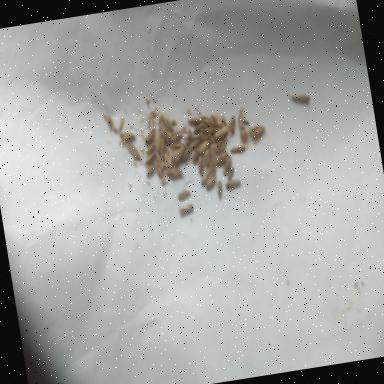pbw: (246, 124, 268, 147), (124, 140, 141, 164), (171, 144, 187, 168), (212, 124, 230, 142), (198, 165, 212, 186), (225, 116, 238, 138), (199, 148, 213, 168), (220, 156, 234, 176), (156, 166, 169, 186), (143, 128, 158, 145), (194, 139, 211, 154), (164, 167, 184, 179), (238, 126, 248, 149), (144, 160, 158, 176), (176, 188, 192, 201), (204, 175, 218, 189), (178, 203, 194, 215), (119, 130, 135, 142), (224, 178, 241, 189), (236, 108, 246, 126), (215, 180, 224, 200), (212, 110, 222, 128), (168, 131, 182, 143), (191, 150, 201, 166), (144, 142, 156, 154), (187, 116, 201, 126), (226, 166, 235, 180), (230, 146, 245, 154)
